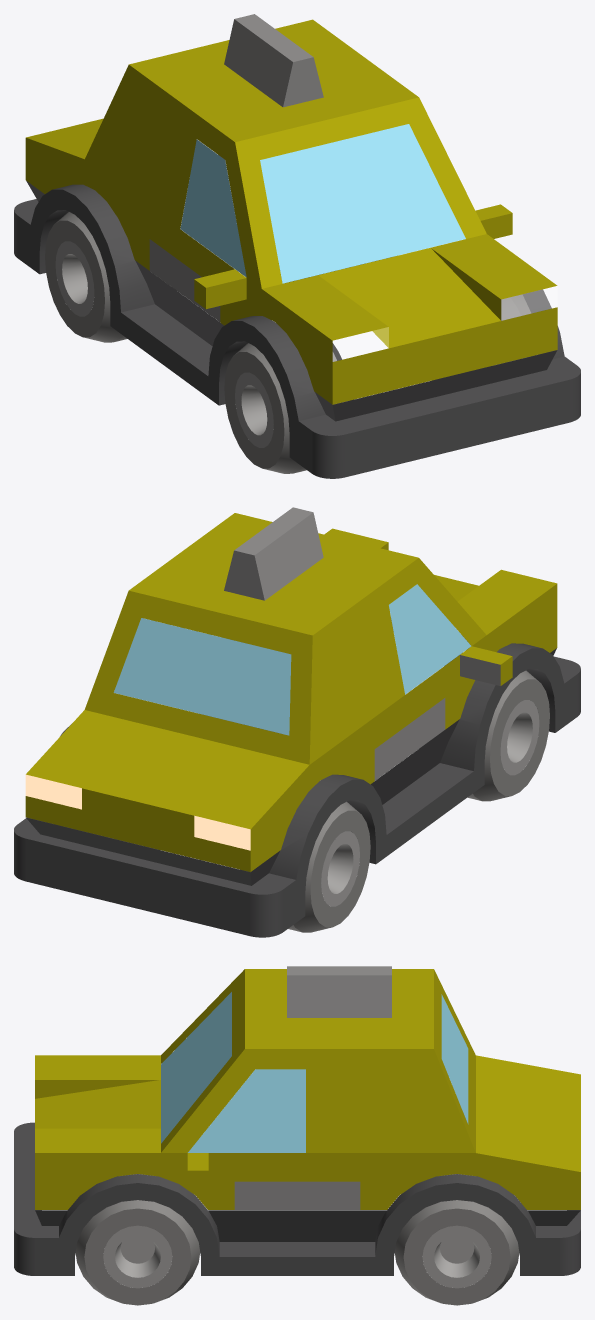
Rendered from taxi.glb.
3 renders of one model, top to bottom at view 1: azimuth 30°, elevation 25°; view 2: azimuth 150°, elevation 25°; view 3: azimuth 270°, elevation 25°, orthographic. The views are drawn at different scales.
Visible parts, largest first — view 1: body, wheel_frontRight, wheel_backRight, wheel_frontLeft; view 2: body, wheel_frontRight, wheel_backRight; view 3: body, wheel_backLeft, wheel_frontLeft.
Part boxes in pixels (x1,y1,x2,y2): body: [14, 14, 580, 478]; wheel_frontRight: [224, 343, 347, 473]; wheel_backRight: [45, 212, 165, 342]; wheel_frontLeft: [439, 294, 537, 378]; body: [14, 507, 580, 937]; wheel_frontRight: [435, 670, 549, 801]; wheel_backRight: [246, 801, 370, 932]; body: [14, 966, 580, 1275]; wheel_backLeft: [394, 1174, 519, 1305]; wheel_frontLeft: [75, 1174, 200, 1305].
Size of the model in its own units: 1.95 by 1.95 by 3.51.
3 materials, 3 textured.
